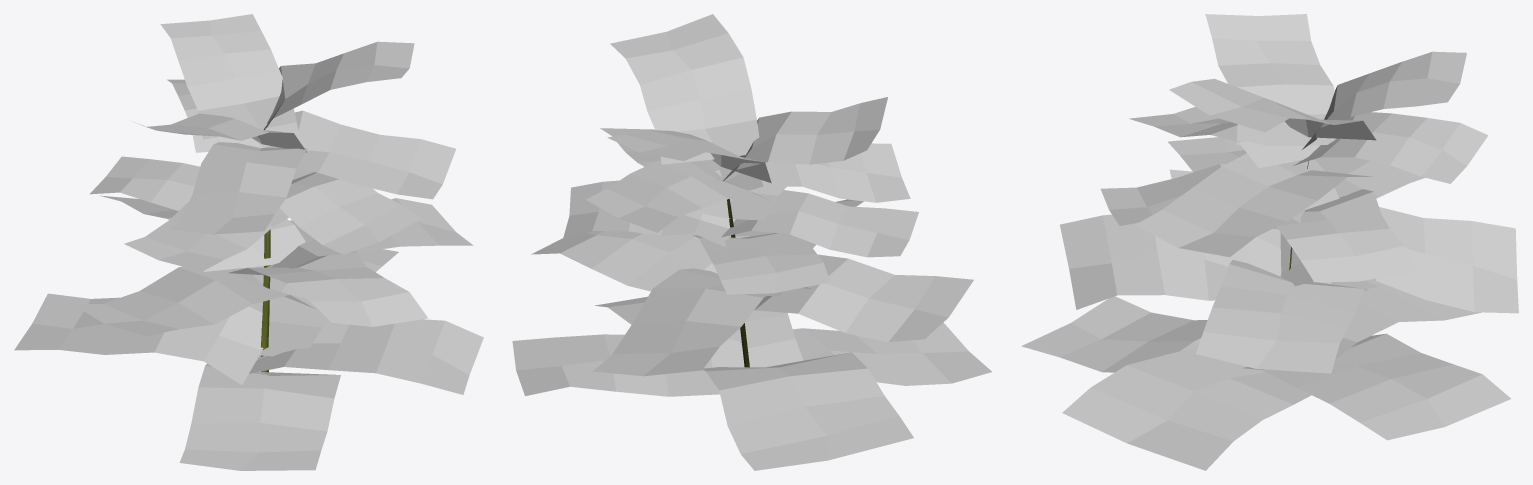
File: HazlenutShrub1.fbx
3 views of the same model, side by side, from view 1: azimuth 30°, elevation 25°; view 2: azimuth 150°, elevation 25°; view 3: azimuth 270°, elevation 25° (orthographic). The views are drawn at different scales.
Visible parts, largest first — view 1: HazlenutShrub1; view 2: HazlenutShrub1; view 3: HazlenutShrub1.
Part boxes in pixels (x1,y1,x2,y2): HazlenutShrub1: (14,14,483,470); HazlenutShrub1: (512,14,991,470); HazlenutShrub1: (1021,14,1518,470).
Bounding box in the file's own units: 156 × 122 × 153.
